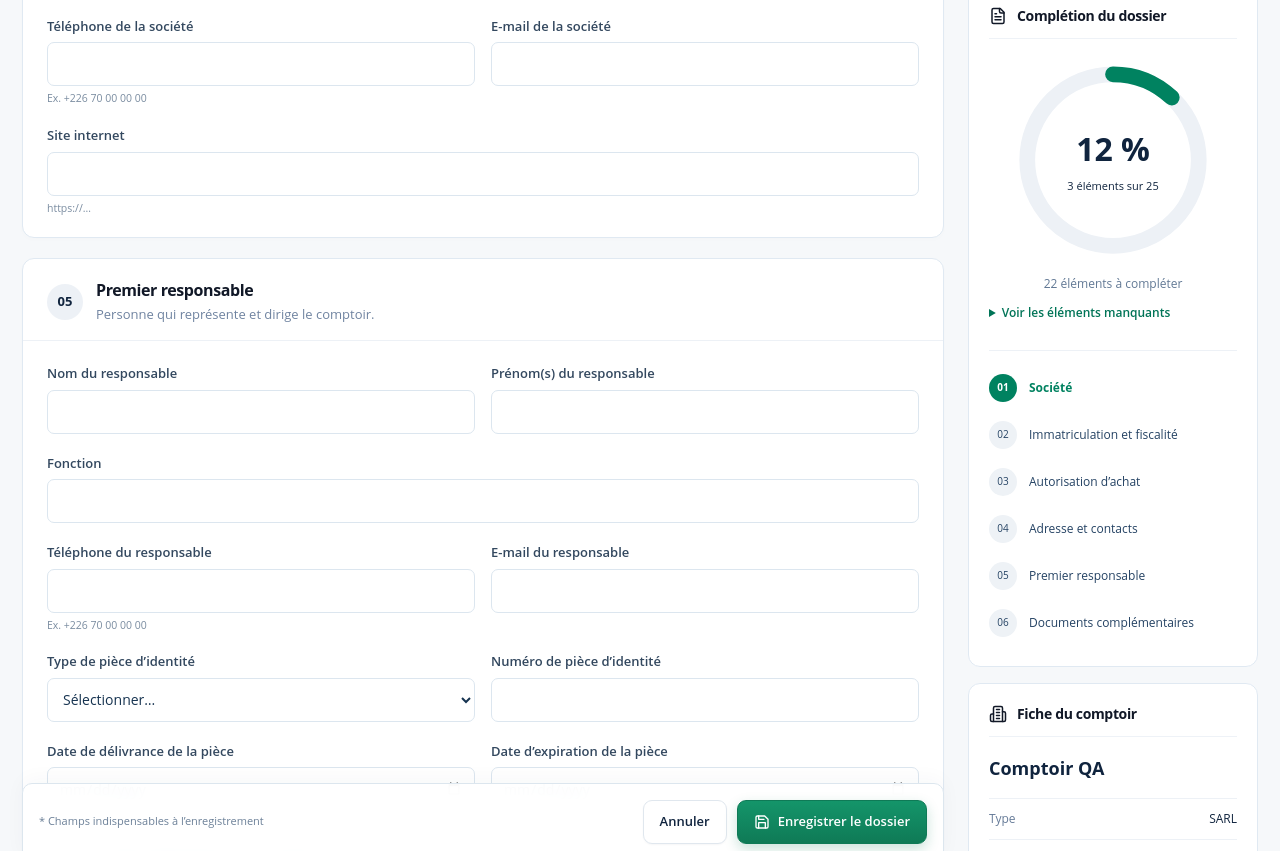
Test case: Dossier entreprise du comptoir › relit le dossier après modification avec une réponse immédiate
(page scrolled)
Type "Responsable actualisé" into the field labelled "Nom du responsable" at (261, 412), box [47, 390, 475, 434]
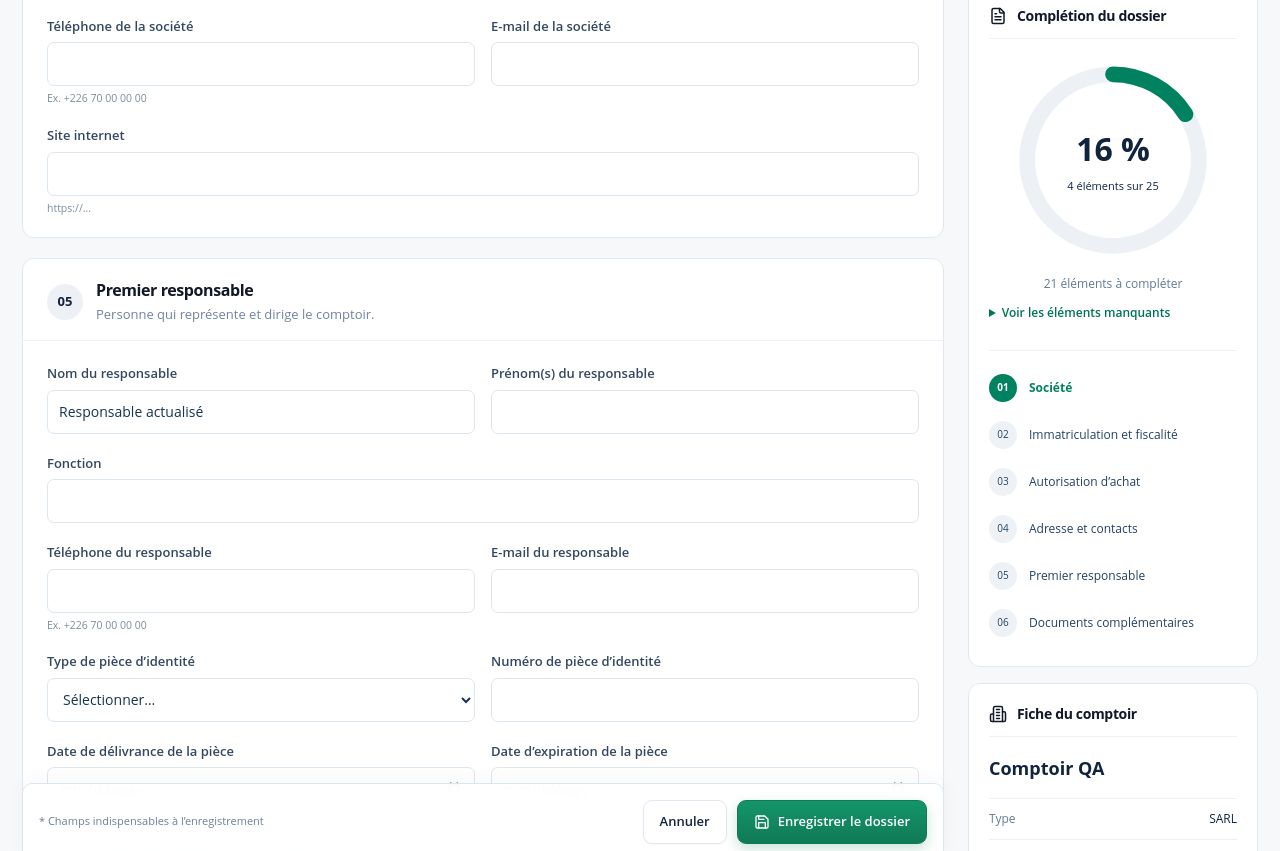
Click the button "Enregistrer le dossier" at (832, 822), box [737, 800, 927, 844]
(page scrolled)
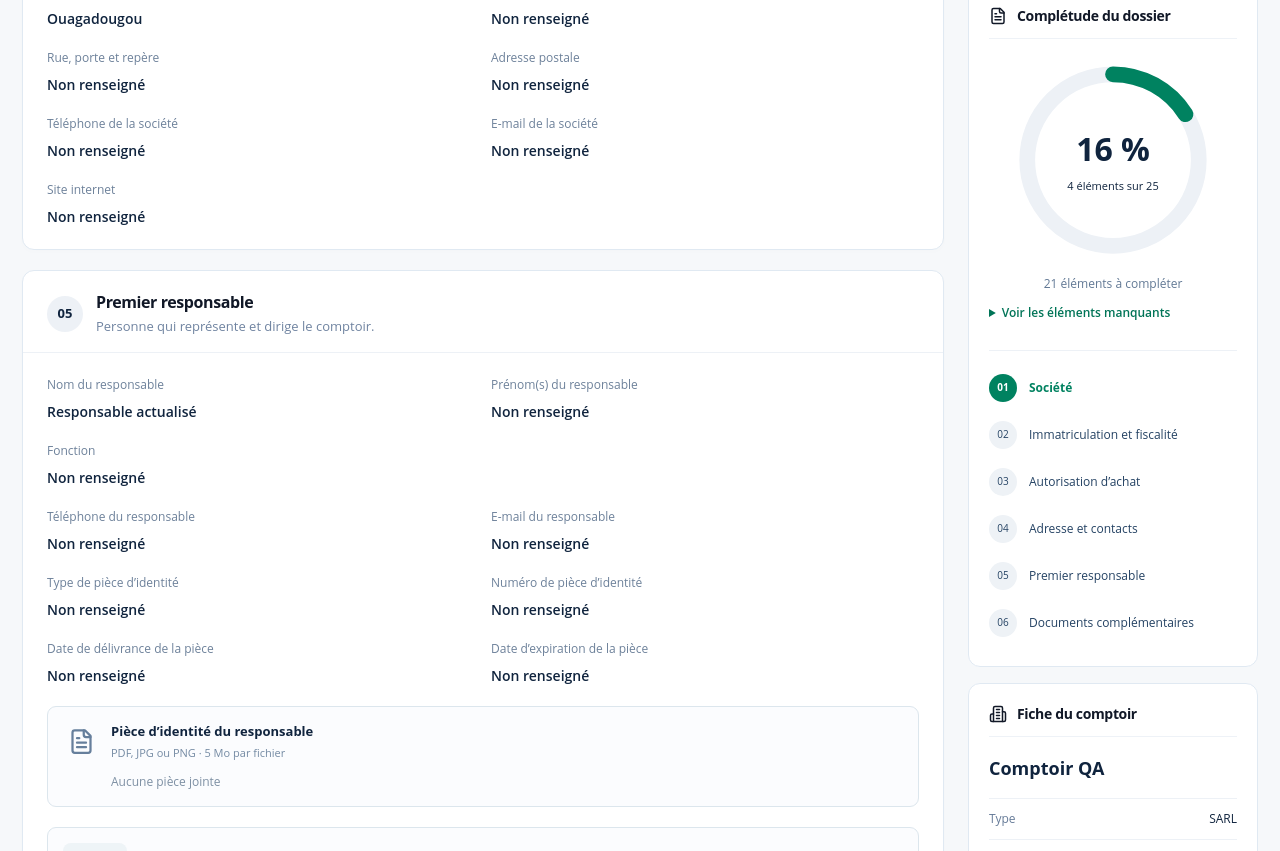
Check: the text "Responsable actualisé" is shown, box [47, 402, 196, 421]
